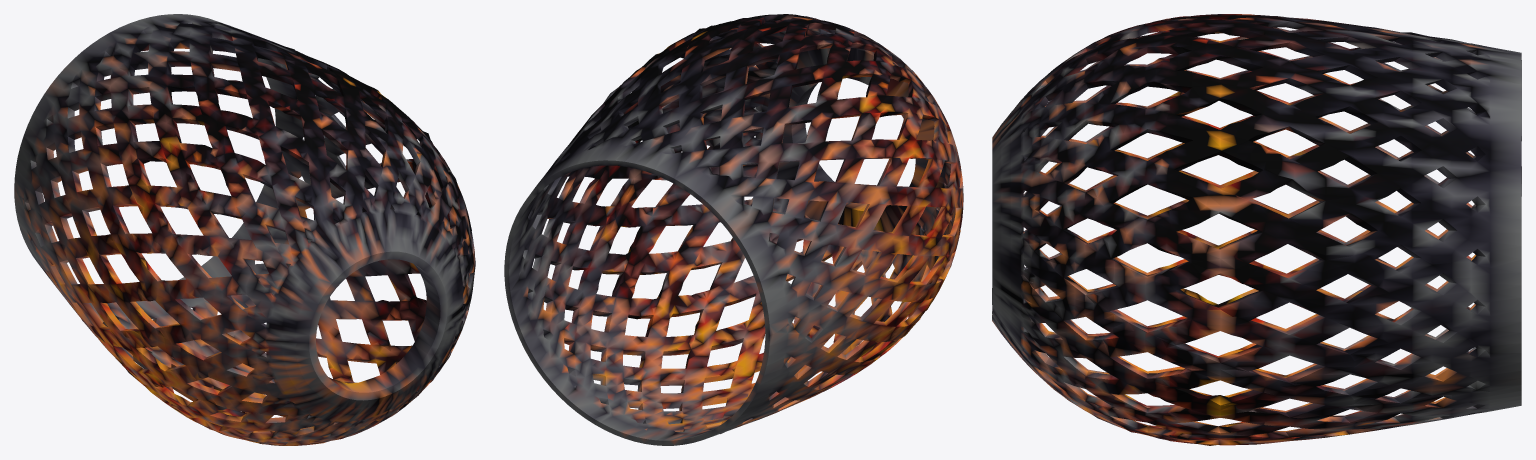
File: lamp_shade_14_final400.obj
3 renders of one model, left to right at view 1: azimuth 30°, elevation 25°; view 2: azimuth 150°, elevation 25°; view 3: azimuth 270°, elevation 25°, orthographic. The views are drawn at different scales.
Bounding box in the file's own units: 1.21 × 1.21 × 1.49.
